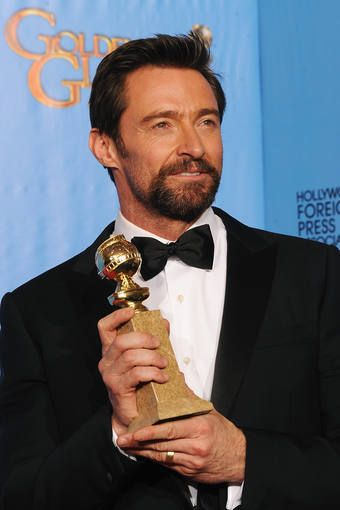hand: (141, 378, 281, 474)
